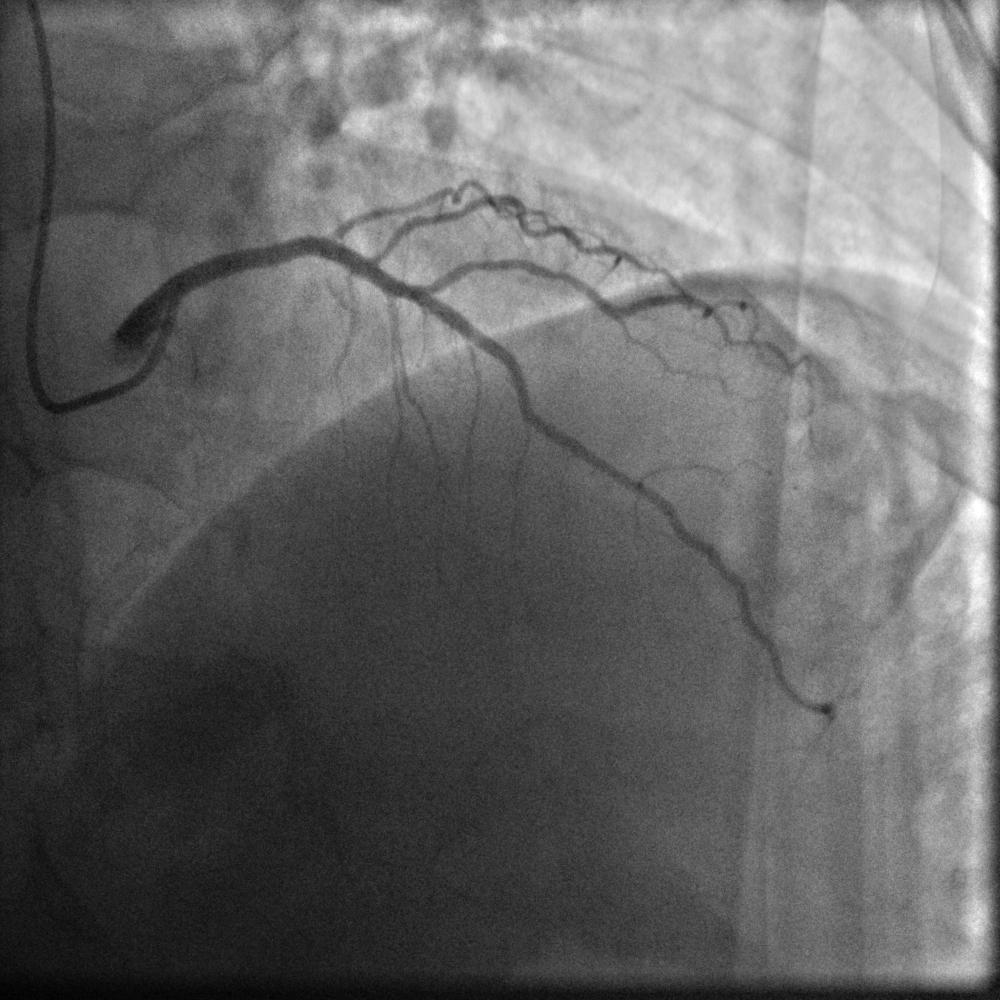Stenosis: (323, 203, 405, 266)
